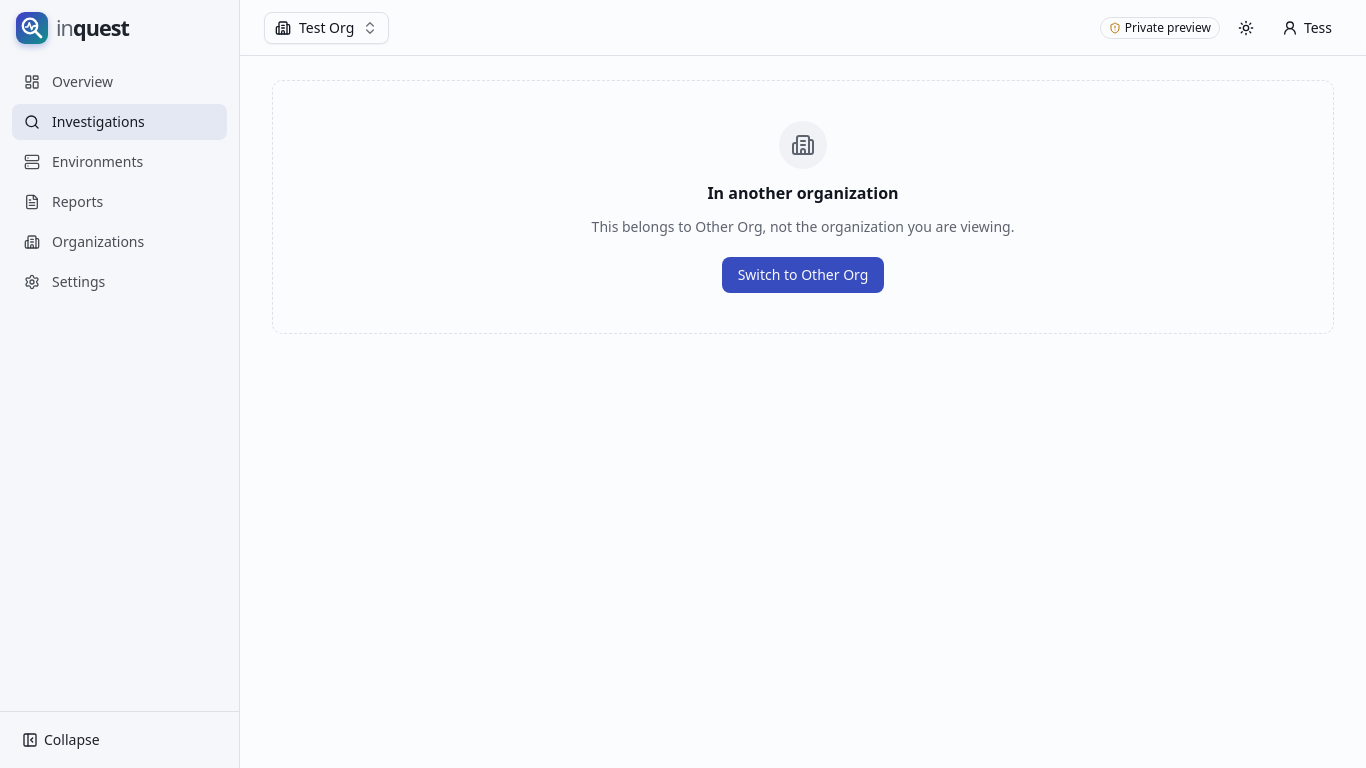
organization scope › shows a record of another organization only after an explicit switch
This screenshot has width=1366, height=768.
Check: the heading "In another organization" is shown, box left=707, top=181, right=899, bottom=205
Check: the text "API latency on /slow" is not shown
What coordinates should you click on to do the following:
click the button "Switch to Other Org"
I would click on:
 (803, 275)
Its box is left=722, top=257, right=884, bottom=293.
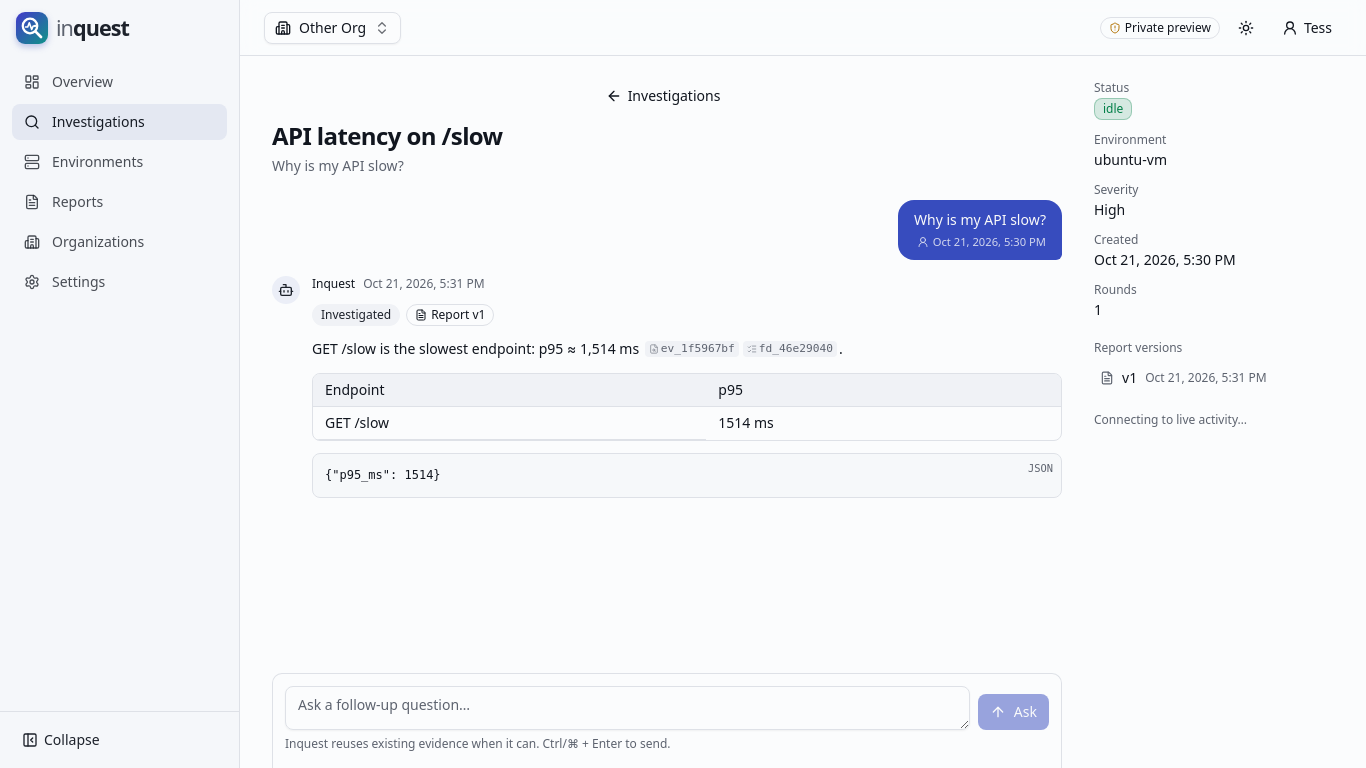
Check: the heading "API latency on /slow" is shown, box left=272, top=120, right=503, bottom=152
